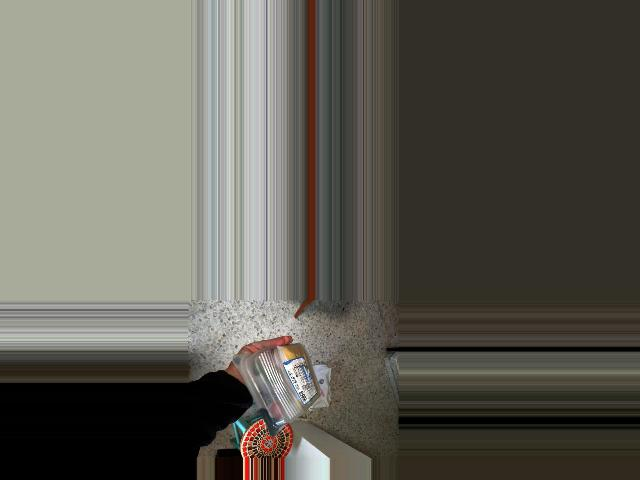cheese: (232, 345, 338, 441)
